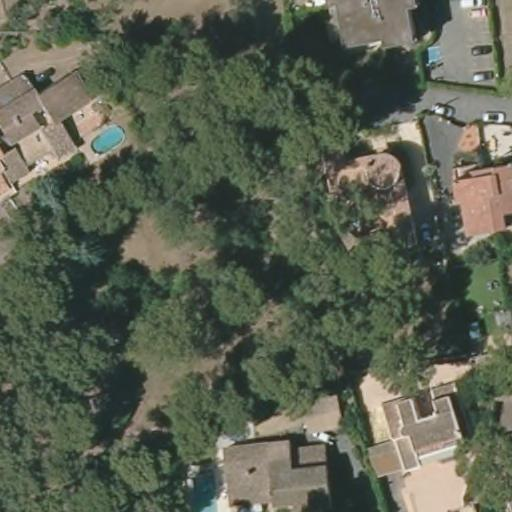pool: (84, 119, 126, 157)
